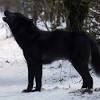Lobo: (2, 7, 100, 94)
